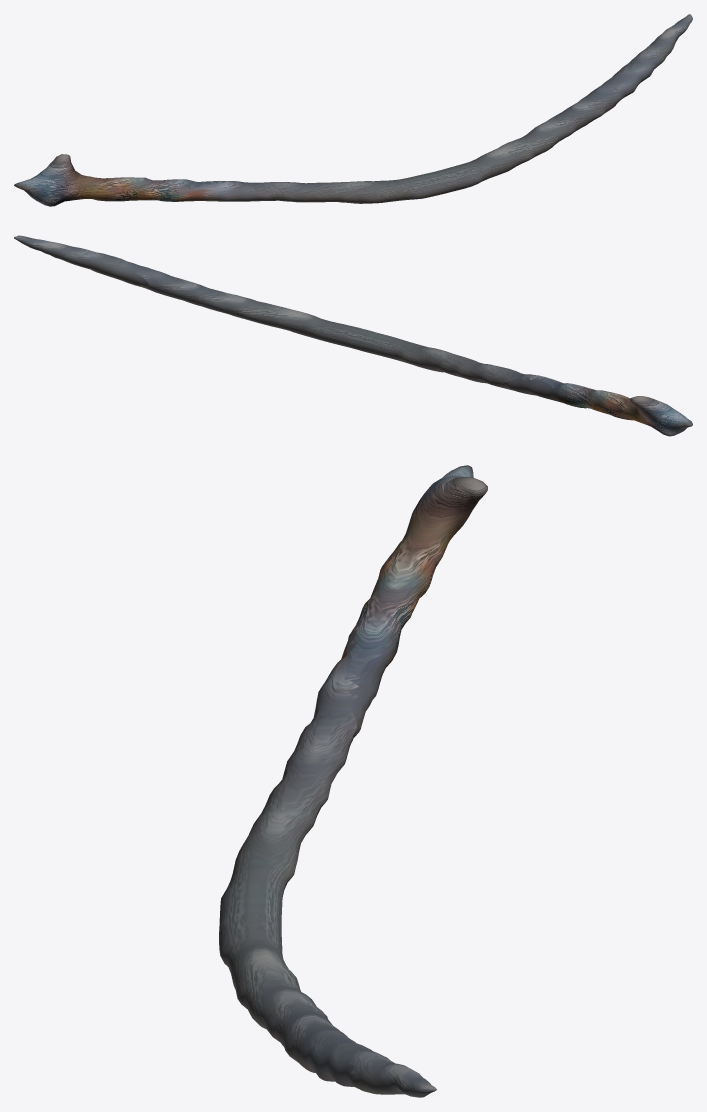
File: kfl-2191.glb
3 renders of one model, top to bottom at view 1: azimuth 30°, elevation 25°; view 2: azimuth 150°, elevation 25°; view 3: azimuth 270°, elevation 25°, orthographic. The views are drawn at different scales.
Parts seen in each view (by area): view 1: geometry_0; view 2: geometry_0; view 3: geometry_0.
Boxes of the visible parts, x1,y1,x2,y2 form: geometry_0: (14,14,692,206); geometry_0: (14,235,692,436); geometry_0: (219,465,487,1097).
Bounding box in the file's own units: 0.9777 × 0.1032 × 0.1705.
Materials: 1 (1 with a texture image).
